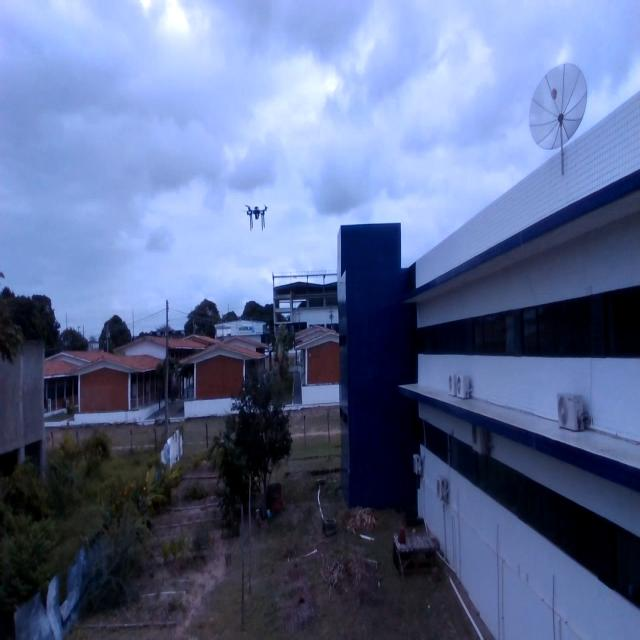-uav-: (239, 197, 272, 236)
